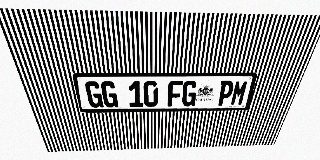0: (143, 81, 158, 107)
1: (128, 81, 143, 107)
F: (167, 81, 183, 107)
G: (84, 81, 104, 108), (100, 81, 118, 108), (181, 81, 198, 106)
M: (230, 80, 249, 106)
P: (216, 80, 235, 106)
